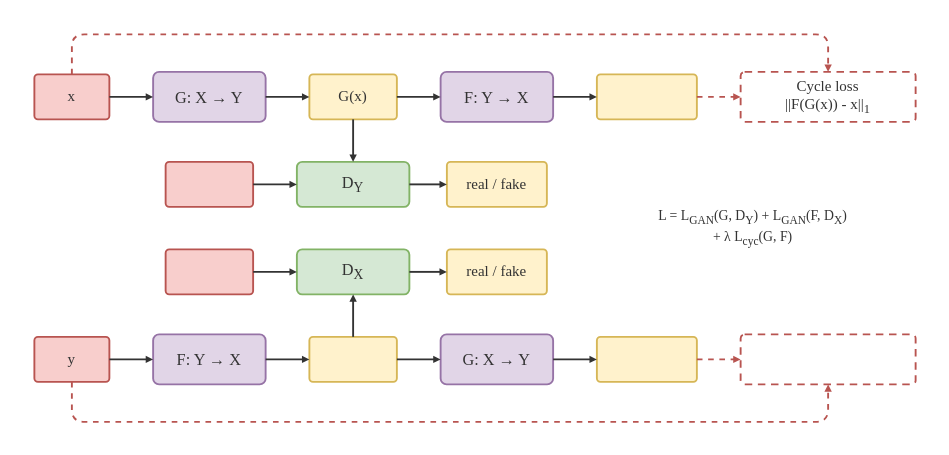
This 949x455 diagram has some shape labels left out. The centre of each missing label's shape, as x and y in pixels:
"Cycle loss ||G(F(y)) - y|| 1" belongs at [827,359].
"F(G(x))" belongs at [646,96].
"F(y)" belongs at [352,358].
"G(F(y))" belongs at [646,358].
"x (real)" belongs at [209,271].
"y (real)" belongs at [209,183].
